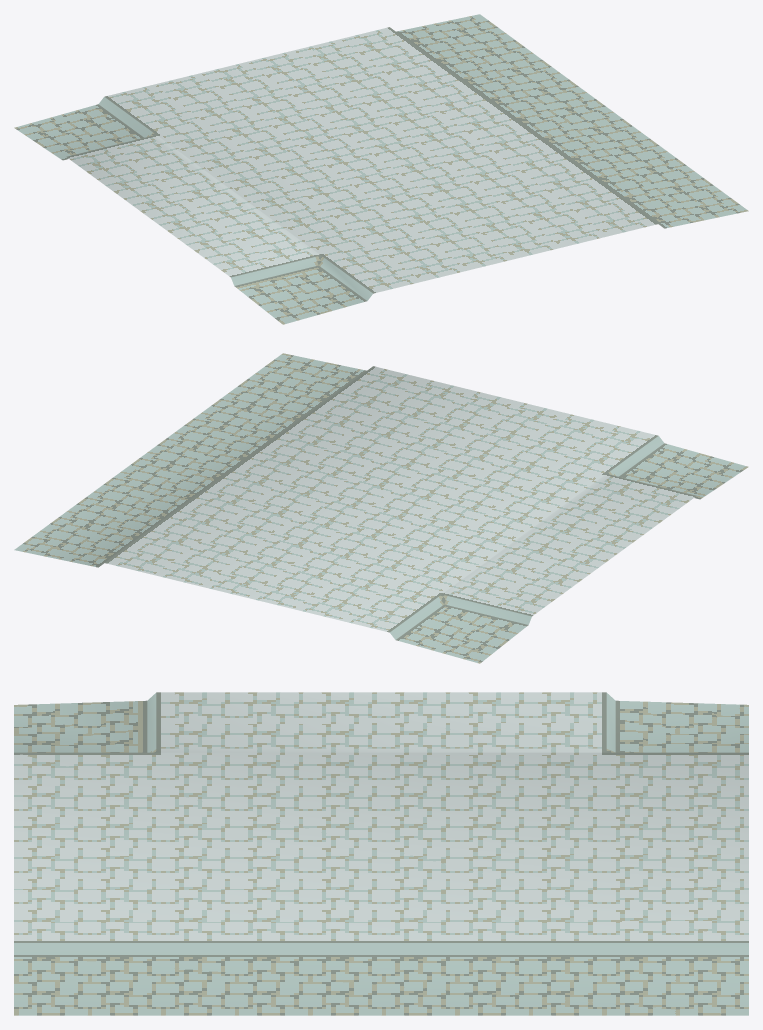
The model's file is Urban_Street_3_Way.gltf.
3 views of the same model, one above another, from view 1: azimuth 30°, elevation 25°; view 2: azimuth 150°, elevation 25°; view 3: azimuth 270°, elevation 25° (orthographic). The views are drawn at different scales.
Size of the model in its own units: 10 by 0.1885 by 10.
1 material, 1 textured.
